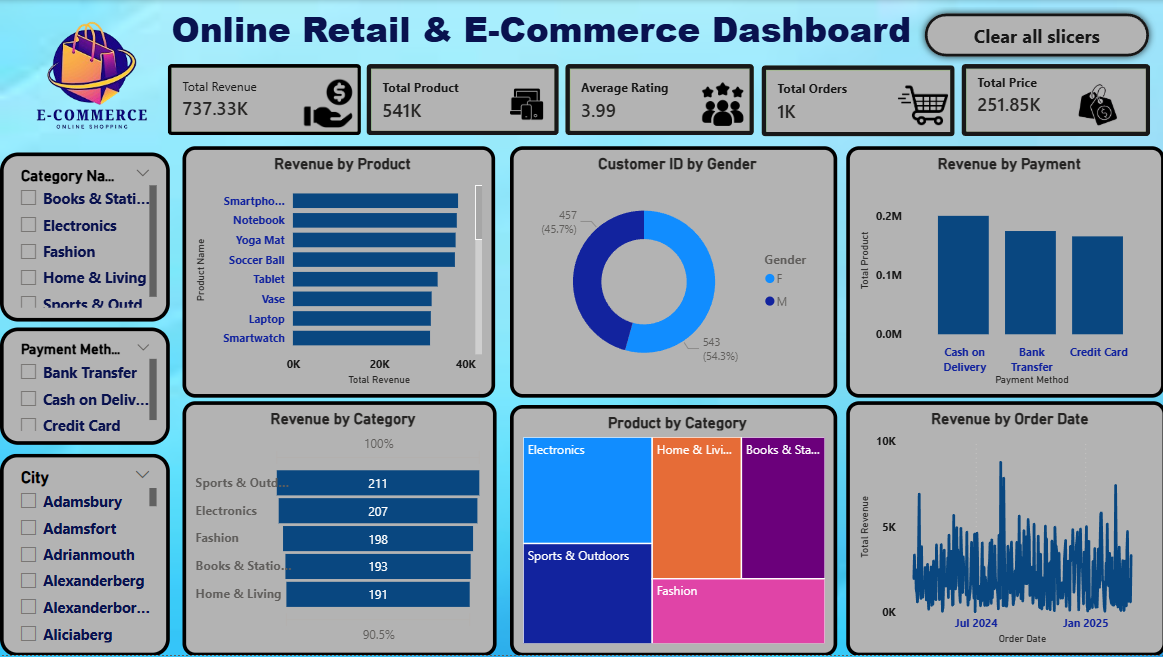

The page's visual inventory and layout, read from the dashboard file:
{"tool":"powerbi","page":{"name":"Page 1","canvas":[1280,720],"ordinal":0},"visuals":[{"type":"image","box":[0,0,201.7,167.4],"z":0},{"type":"lineChart","title":" Revenue by Order Date","fields":{"Category":["E-Commerce.Order Date"],"Y":["E-Commerce.Total Revenue"]},"box":[929,440.5,351.3,279.9],"z":1000},{"type":"barChart","title":"Revenue by Product ","fields":{"Category":["E-Commerce.Product Name"],"Y":["E-Commerce.Total Revenue"]},"box":[200.3,160.5,343.1,275.8],"z":2000},{"type":"donutChart","title":"Customer ID by Gender","fields":{"Category":["E-Commerce.Gender"],"Y":["CountNonNull(E-Commerce.Customer ID)"]},"box":[559.9,160.5,359.5,275.8],"z":3000},{"type":"columnChart","title":"Revenue by Payment ","fields":{"Y":["E-Commerce.Total Product"],"Category":["E-Commerce.Payment Method"]},"box":[929,160.5,349.9,275.8],"z":4000},{"type":"funnel","title":"Revenue by Category ","fields":{"Category":["E-Commerce.Category Name"],"Y":["E-Commerce.Total Orders"]},"box":[200.3,440.5,344.4,279.9],"z":5000},{"type":"treemap","title":"Product by Category ","fields":{"Values":["E-Commerce.Total Product"],"Group":["E-Commerce.Category Name"]},"box":[559.9,444.6,359.5,275.8],"z":6000},{"type":"actionButton","box":[1007.2,6.9,262.1,63.1],"z":7000},{"type":"cardVisual","fields":{"Data":["E-Commerce.Total Revenue"]},"box":[167.4,53.5,247,112.5],"z":8000},{"type":"cardVisual","fields":{"Data":["E-Commerce.Total Product","E-Commerce.Total Product"]},"box":[385.6,53.5,245.6,112.5],"z":9000},{"type":"cardVisual","fields":{"Data":["E-Commerce.Average Rating"]},"box":[603.8,53.5,241.5,112.5],"z":10000},{"type":"cardVisual","fields":{"Data":["E-Commerce.Total Orders"]},"box":[819.2,54.9,247,112.5],"z":11000},{"type":"slicer","fields":{"Values":["E-Commerce.Category Name"]},"box":[0,167.4,186.6,185.2],"z":12000},{"type":"slicer","fields":{"Values":["E-Commerce.Payment Method"]},"box":[0,359.5,186.6,129],"z":13000},{"type":"slicer","fields":{"Values":["E-Commerce.City"]},"box":[0,498.1,186.6,222.3],"z":14000},{"type":"textbox","box":[167.4,0,853.5,75.5],"z":15000},{"type":"cardVisual","fields":{"Data":["E-Commerce.Total Price"]},"box":[1038.8,53.5,241.5,113.9],"z":16000}]}

Visuals, with their boxes in screenshot pixels (x1, y1, x2, y2), scaled from the page's 1280x720 canvas onto the 1163x657 screenshot:
image: (x1=0, y1=0, x2=183, y2=153)
" Revenue by Order Date" lineChart: (x1=844, y1=402, x2=1162, y2=656)
"Revenue by Product " barChart: (x1=182, y1=146, x2=494, y2=398)
"Customer ID by Gender" donutChart: (x1=509, y1=146, x2=835, y2=398)
"Revenue by Payment " columnChart: (x1=844, y1=146, x2=1162, y2=398)
"Revenue by Category " funnel: (x1=182, y1=402, x2=495, y2=656)
"Product by Category " treemap: (x1=509, y1=406, x2=835, y2=656)
actionButton: (x1=915, y1=6, x2=1153, y2=64)
cardVisual - E-Commerce.Total Revenue: (x1=152, y1=49, x2=377, y2=151)
cardVisual - E-Commerce.Total Product x E-Commerce.Total Product: (x1=350, y1=49, x2=574, y2=151)
cardVisual - E-Commerce.Average Rating: (x1=549, y1=49, x2=768, y2=151)
cardVisual - E-Commerce.Total Orders: (x1=744, y1=50, x2=969, y2=153)
slicer - E-Commerce.Category Name: (x1=0, y1=153, x2=170, y2=322)
slicer - E-Commerce.Payment Method: (x1=0, y1=328, x2=170, y2=446)
slicer - E-Commerce.City: (x1=0, y1=455, x2=170, y2=656)
textbox: (x1=152, y1=0, x2=928, y2=69)
cardVisual - E-Commerce.Total Price: (x1=944, y1=49, x2=1162, y2=153)
